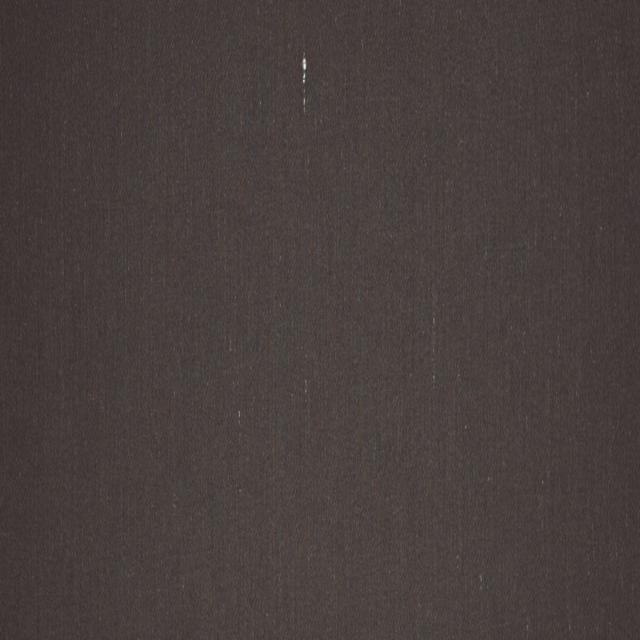Knot: (302, 51, 308, 112)
